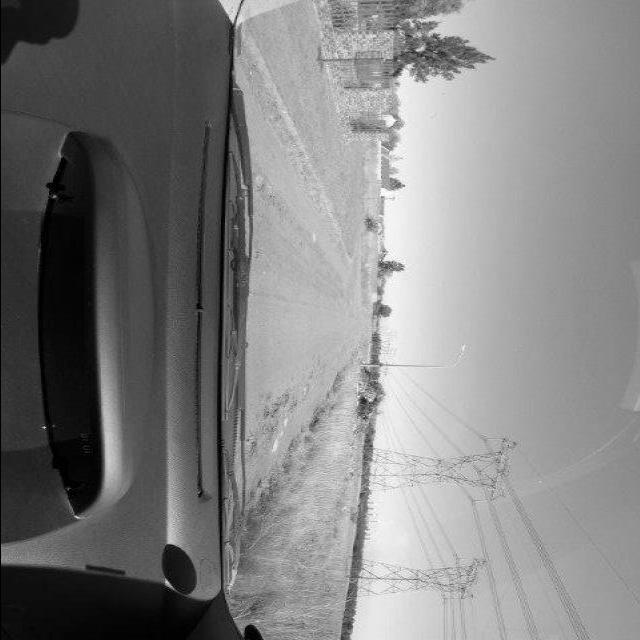lubang: (254, 372, 310, 430), (254, 174, 274, 200), (244, 438, 262, 460)
